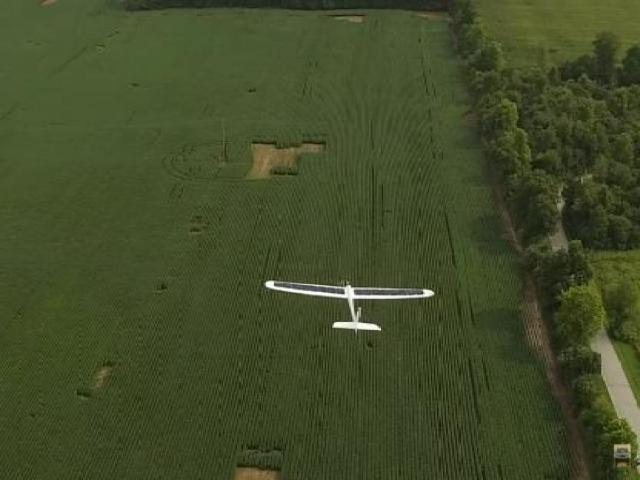uav: (257, 266, 438, 346)
